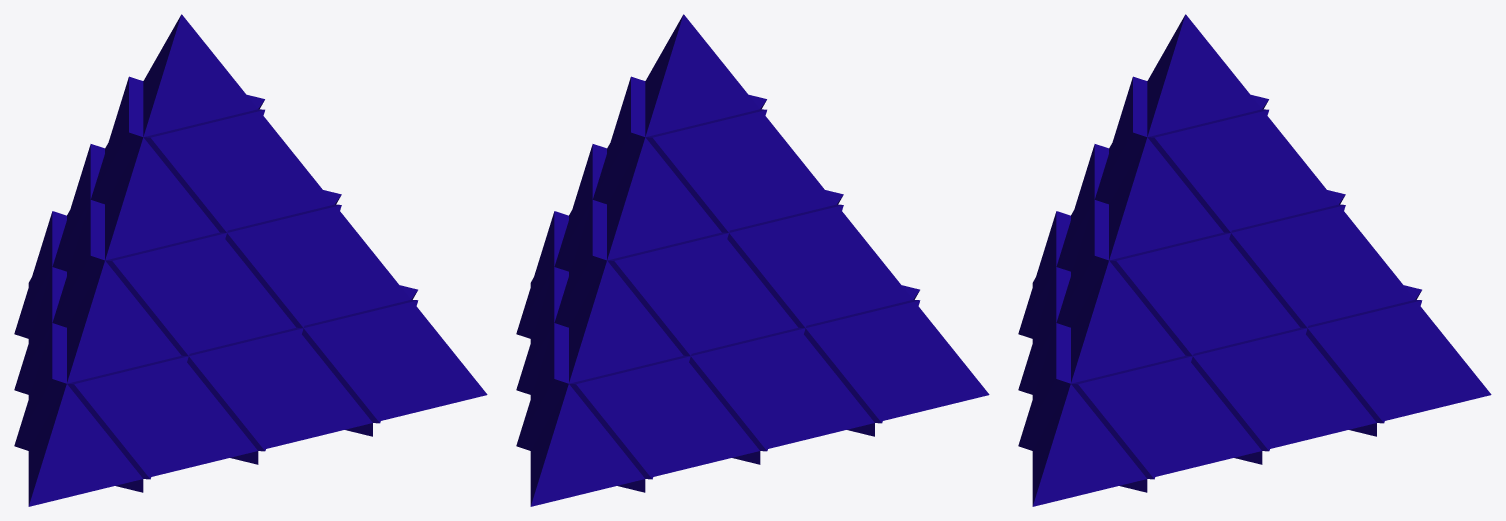
File: threejs.glb
3 renders of one model, left to right at view 1: azimuth 30°, elevation 25°; view 2: azimuth 150°, elevation 25°; view 3: azimuth 270°, elevation 25°, orthographic.
Visible parts, largest first — view 1: Cone; view 2: Cone; view 3: Cone.
Boxes of the visible parts, x1,y1,x2,y2 form: Cone: (14, 14, 487, 506); Cone: (516, 14, 989, 506); Cone: (1018, 14, 1491, 506).
Bounding box in the file's own units: 1.73 × 1.42 × 1.55.
